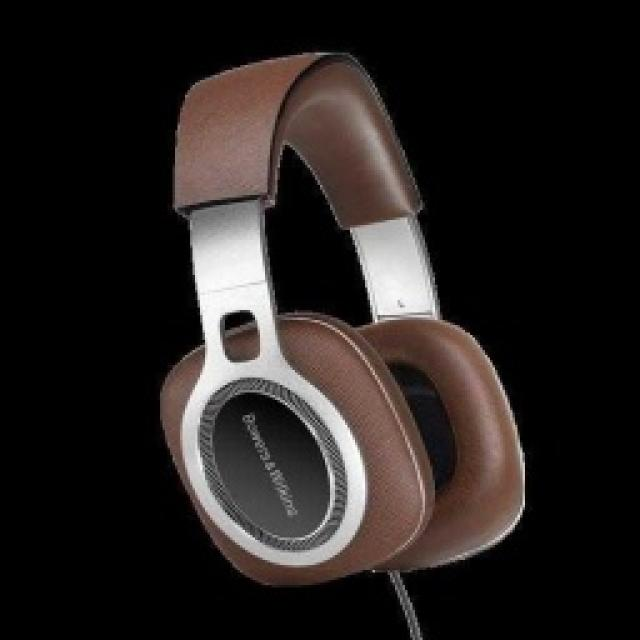headphones: (155, 48, 527, 588)
